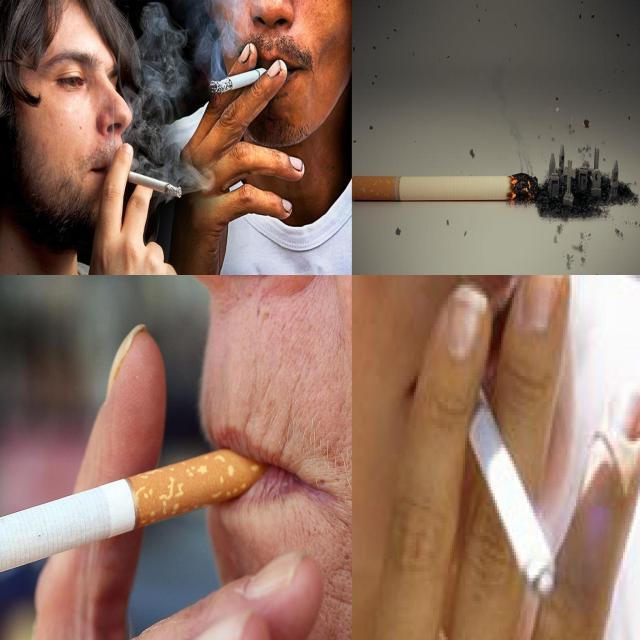smoking: (0, 444, 274, 631), (455, 358, 555, 594), (352, 175, 538, 200), (109, 166, 183, 200), (210, 67, 268, 94)
